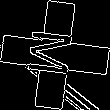M_E: (27, 29, 83, 81)
